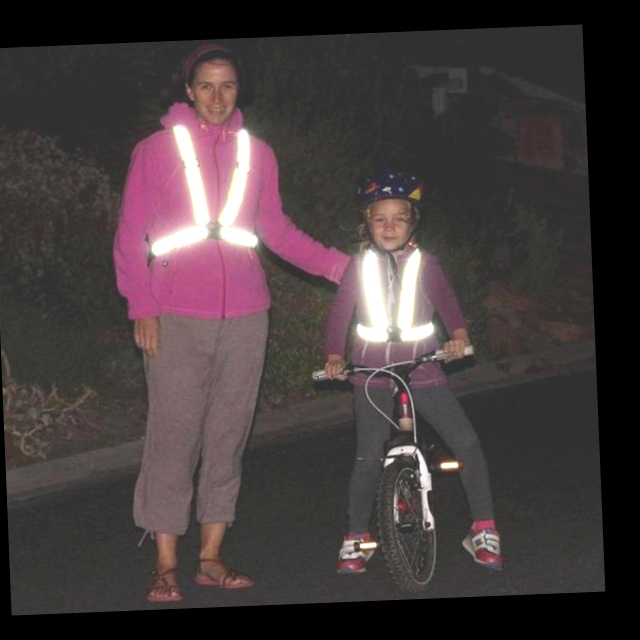Con_Chaleco: (142, 114, 274, 281), (347, 246, 446, 356)
